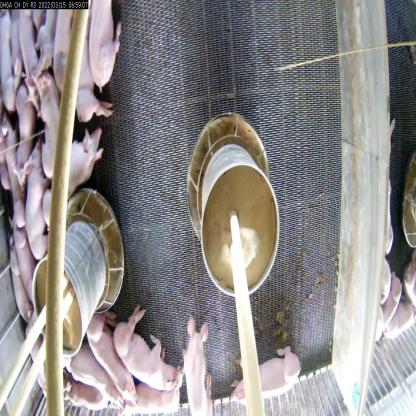Pig: (107, 304, 182, 392), (67, 8, 115, 135), (85, 306, 136, 404), (15, 143, 59, 253), (226, 352, 300, 412), (180, 321, 217, 415), (33, 79, 69, 170), (60, 126, 107, 194), (119, 370, 190, 415), (68, 343, 117, 408), (10, 76, 38, 174), (89, 0, 120, 81), (9, 209, 36, 288), (49, 12, 76, 82)
